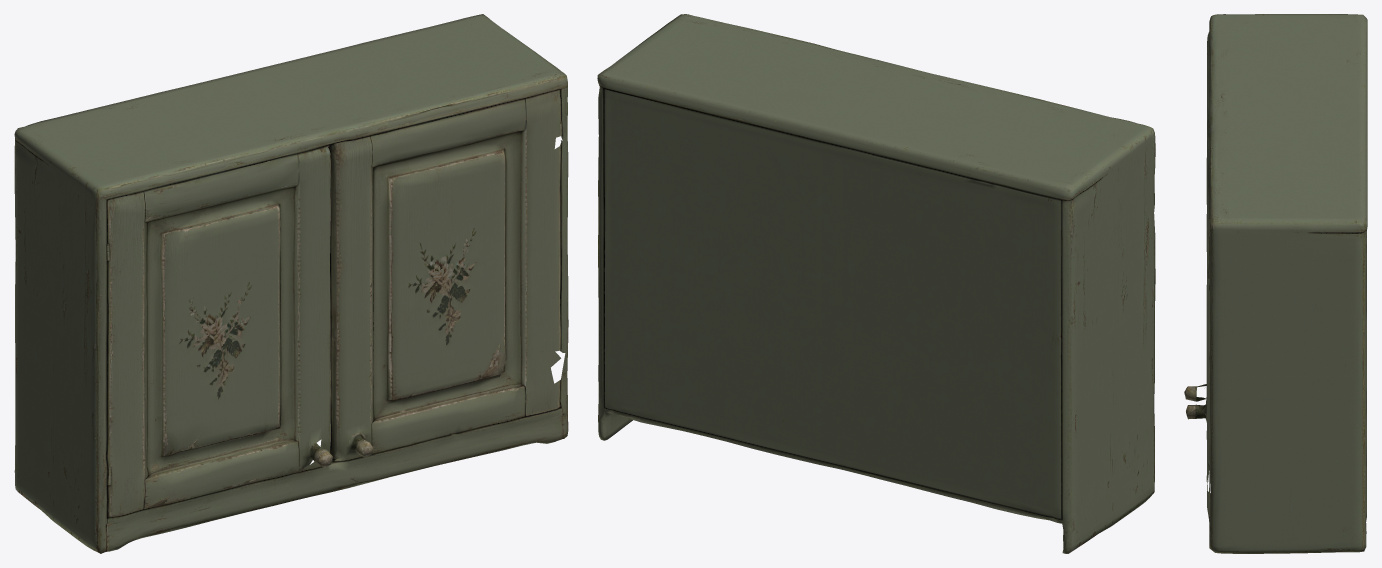
Rendered from antique cabinet 3d model.glb.
3 renders of one model, left to right at view 1: azimuth 30°, elevation 25°; view 2: azimuth 150°, elevation 25°; view 3: azimuth 270°, elevation 25°, orthographic. The views are drawn at different scales.
Visible parts, largest first — view 1: tripo_node_6e9cb01e; view 2: tripo_node_6e9cb01e; view 3: tripo_node_6e9cb01e.
Boxes of the visible parts, x1=… form: tripo_node_6e9cb01e: x1=14, y1=14, x2=568, y2=553; tripo_node_6e9cb01e: x1=597, y1=14, x2=1155, y2=553; tripo_node_6e9cb01e: x1=1184, y1=14, x2=1367, y2=553.
Bounding box in the file's own units: 97.8 × 72.25 × 36.16.
1 material, 1 textured.
